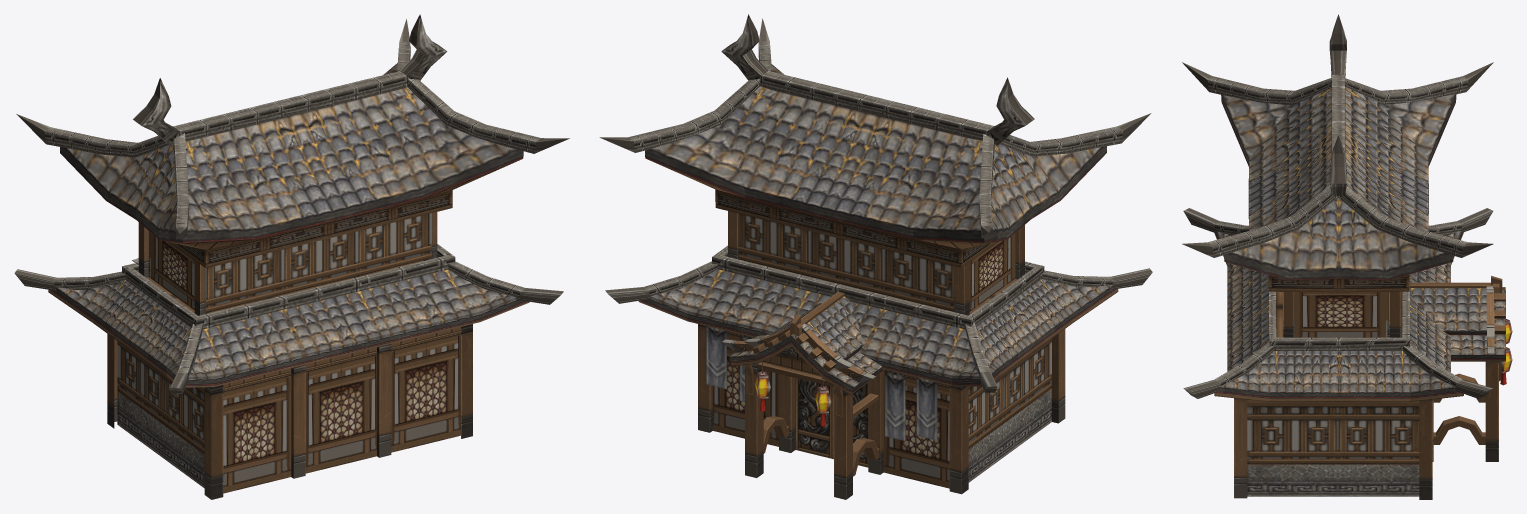
Rendered from Item_3001_dimianwujian_houchenglou.FBX.
3 renders of one model, left to right at view 1: azimuth 30°, elevation 25°; view 2: azimuth 150°, elevation 25°; view 3: azimuth 270°, elevation 25°, orthographic. The views are drawn at different scales.
Parts seen in each view (by area): view 1: Item_3001_dimianwujian_houchenglou; view 2: Item_3001_dimianwujian_houchenglou; view 3: Item_3001_dimianwujian_houchenglou.
Part boxes in pixels (x1,y1,x2,y2): Item_3001_dimianwujian_houchenglou: (14, 14, 569, 499); Item_3001_dimianwujian_houchenglou: (599, 14, 1152, 499); Item_3001_dimianwujian_houchenglou: (1182, 14, 1512, 499).
Bounding box in the file's own units: 1106 × 1019 × 839.
